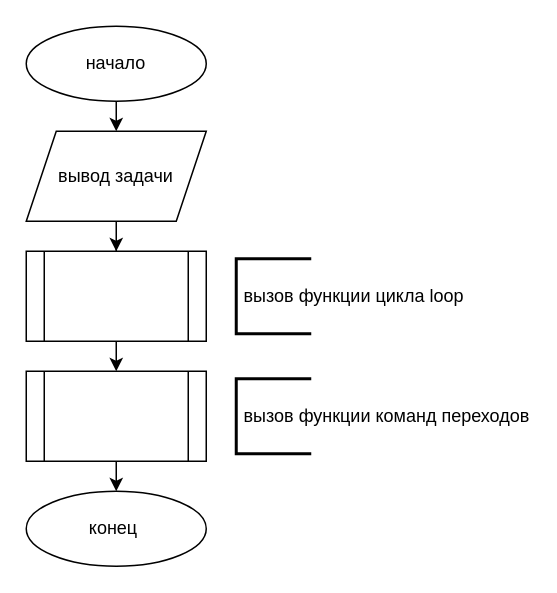
Some shapes in this 557 by 593 pixel diagram are drawn without their labels. Each missing label, with the box of its shape:
loopp ();: (25, 250, 206, 341)
transition(): (25, 370, 206, 461)
